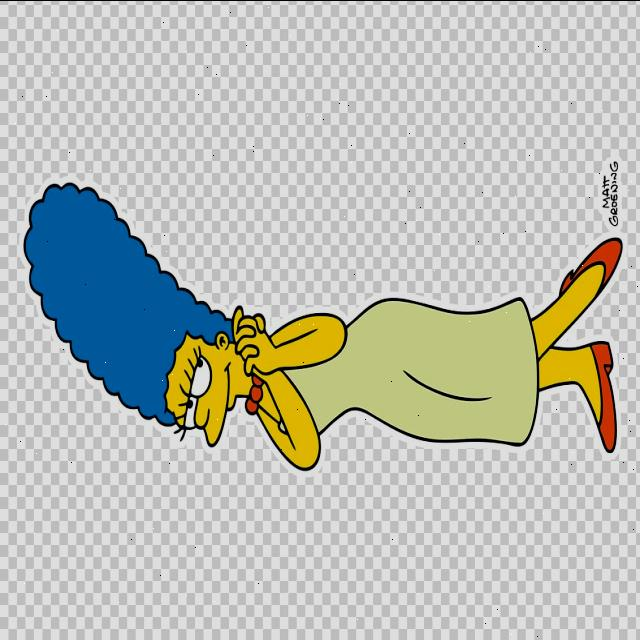Marge Simpson: (20, 177, 269, 452)
